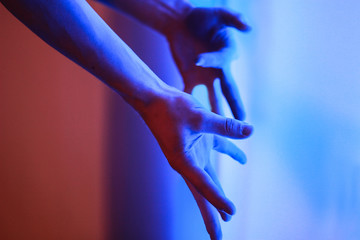finger: (173, 154, 248, 213), (185, 181, 230, 240), (201, 162, 238, 222), (220, 74, 254, 121), (194, 38, 243, 68), (213, 133, 256, 167), (204, 81, 228, 116)
